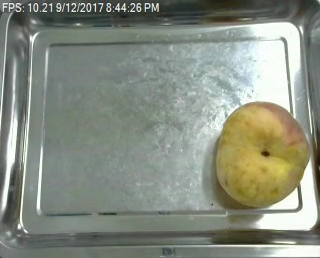Peach: (215, 99, 310, 207)
